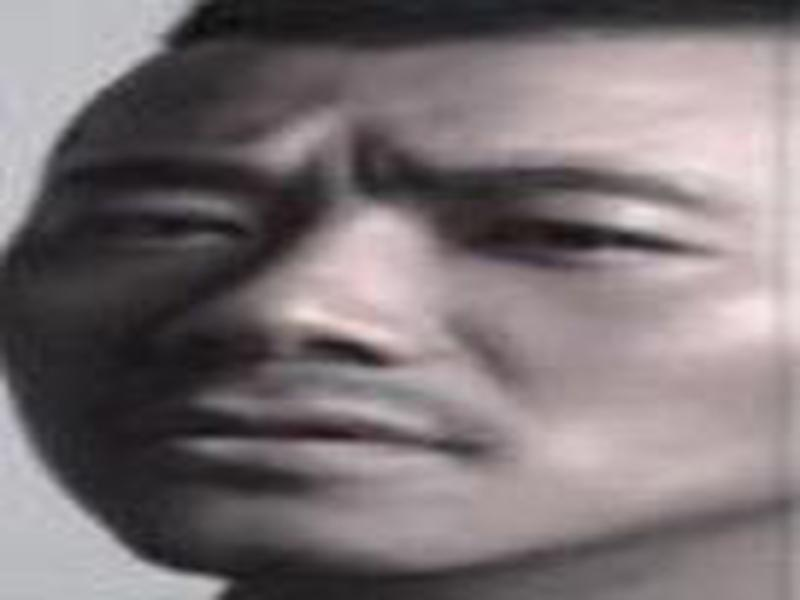without_mask: (2, 42, 778, 578)
